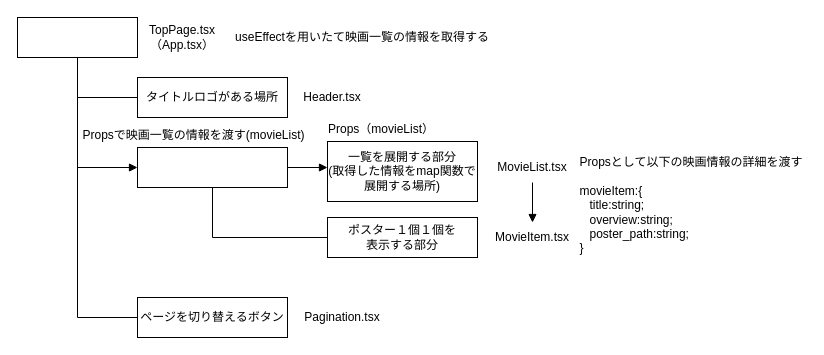
Some shapes in this 824 by 355 pixel diagram are drawn without their labels. Here are the shapes that lost their labels. From the top down, the centre of each, then its label:
(77,37): 映画を表示する画面
(212,167): 映画一覧を表示する部分
